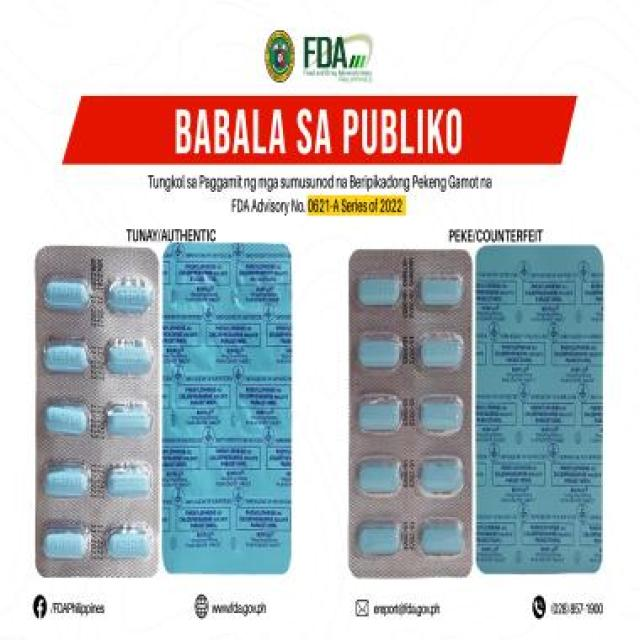Bioflu_Strip: (34, 238, 162, 588), (342, 241, 474, 580)
